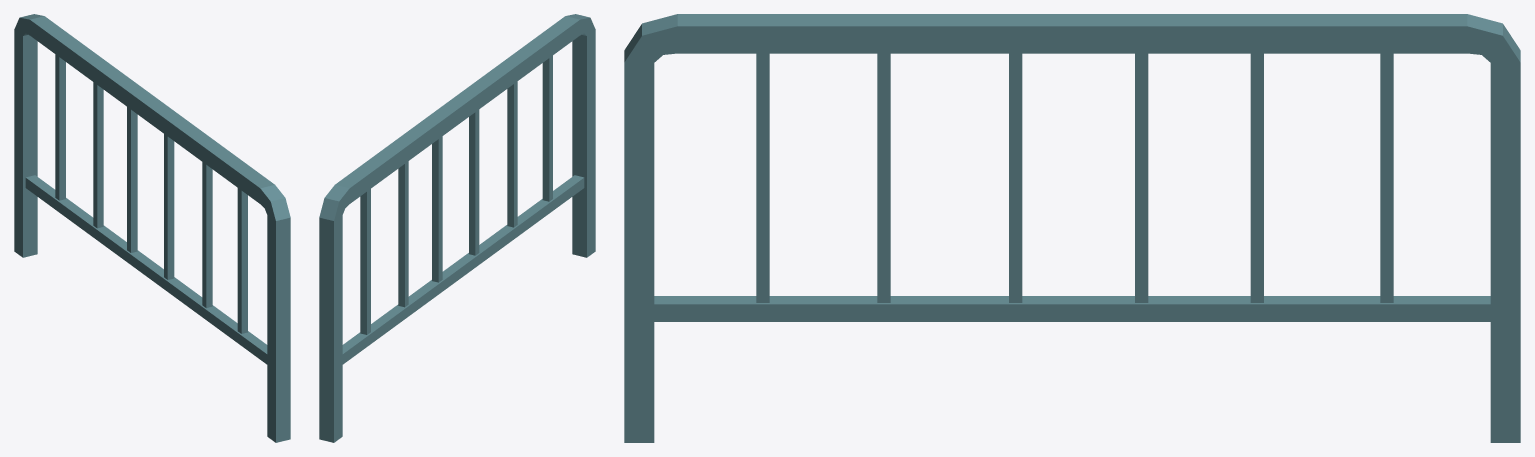
File: SM_Fence_01.fbx
The picture shows the model from 3 angles, left to right: view 1: azimuth 30°, elevation 25°; view 2: azimuth 150°, elevation 25°; view 3: azimuth 270°, elevation 25°; orthographic projection. The views are drawn at different scales.
Parts seen in each view (by area): view 1: SM_Fence_01; view 2: SM_Fence_01; view 3: SM_Fence_01.
Boxes of the visible parts, <box> form: SM_Fence_01: <box>14,14,290,442</box>; SM_Fence_01: <box>319,14,595,442</box>; SM_Fence_01: <box>624,14,1520,442</box>.
Size of the model in its own units: 4.83 by 76.01 by 148.
